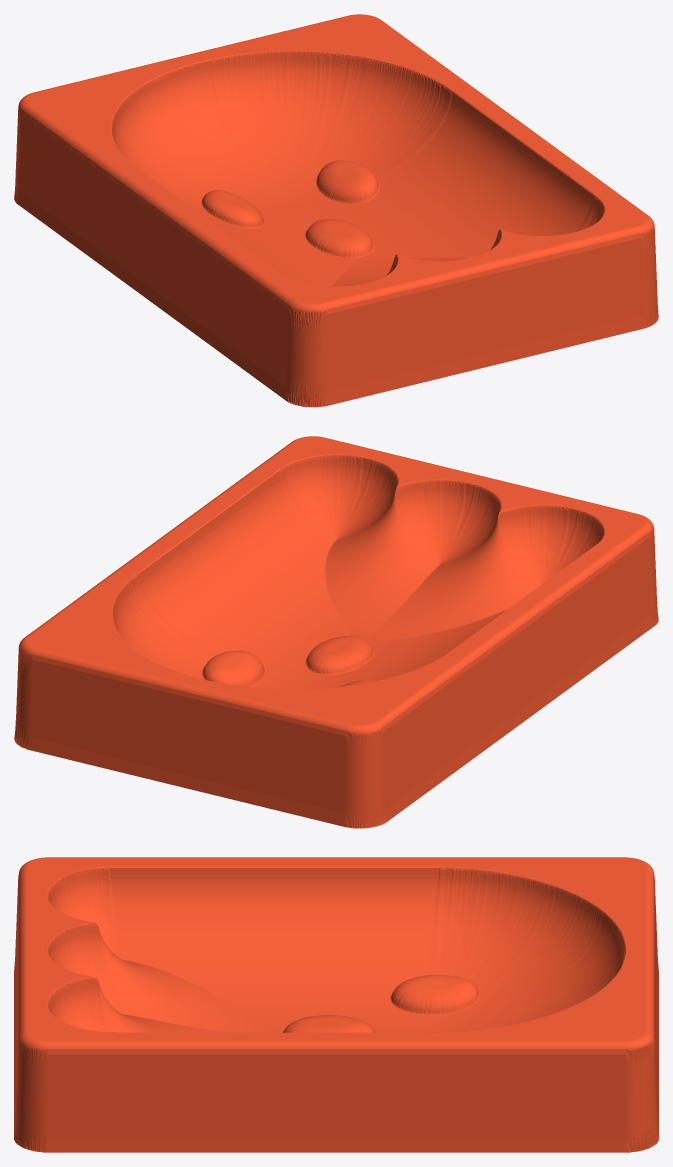
The model's file is mold.glb.
The picture shows the model from 3 angles, top to bottom: view 1: azimuth 30°, elevation 25°; view 2: azimuth 150°, elevation 25°; view 3: azimuth 270°, elevation 25°; orthographic projection. The views are drawn at different scales.
Visible parts, largest first — view 1: geometry_0; view 2: geometry_0; view 3: geometry_0.
Boxes of the visible parts, x1,y1,x2,y2 form: geometry_0: [14, 14, 658, 407]; geometry_0: [14, 436, 658, 828]; geometry_0: [14, 857, 658, 1152].
Size of the model in its own units: 0.1216 by 0.031 by 0.1709.
